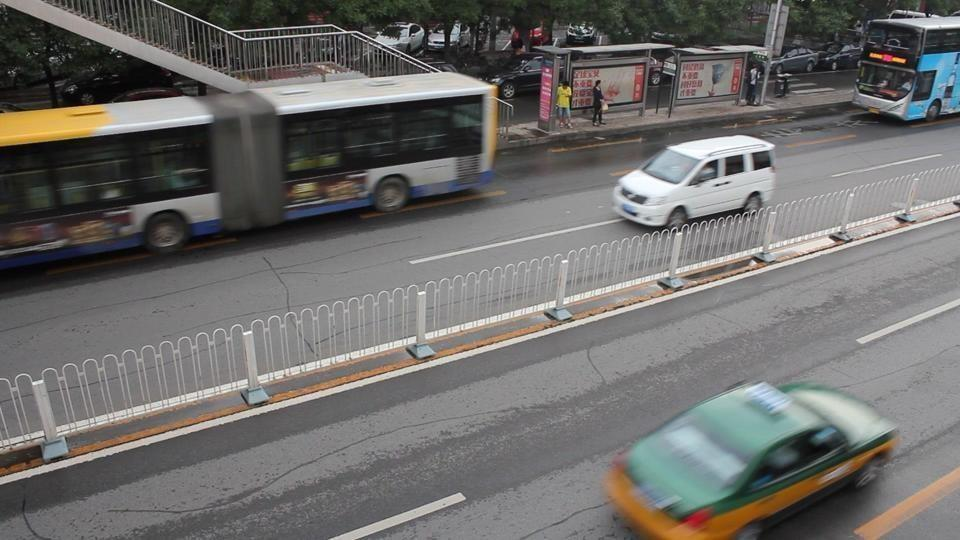car: (599, 378, 903, 537), (611, 133, 778, 231), (489, 56, 549, 99), (374, 23, 426, 54), (774, 48, 820, 74), (821, 46, 864, 71)
